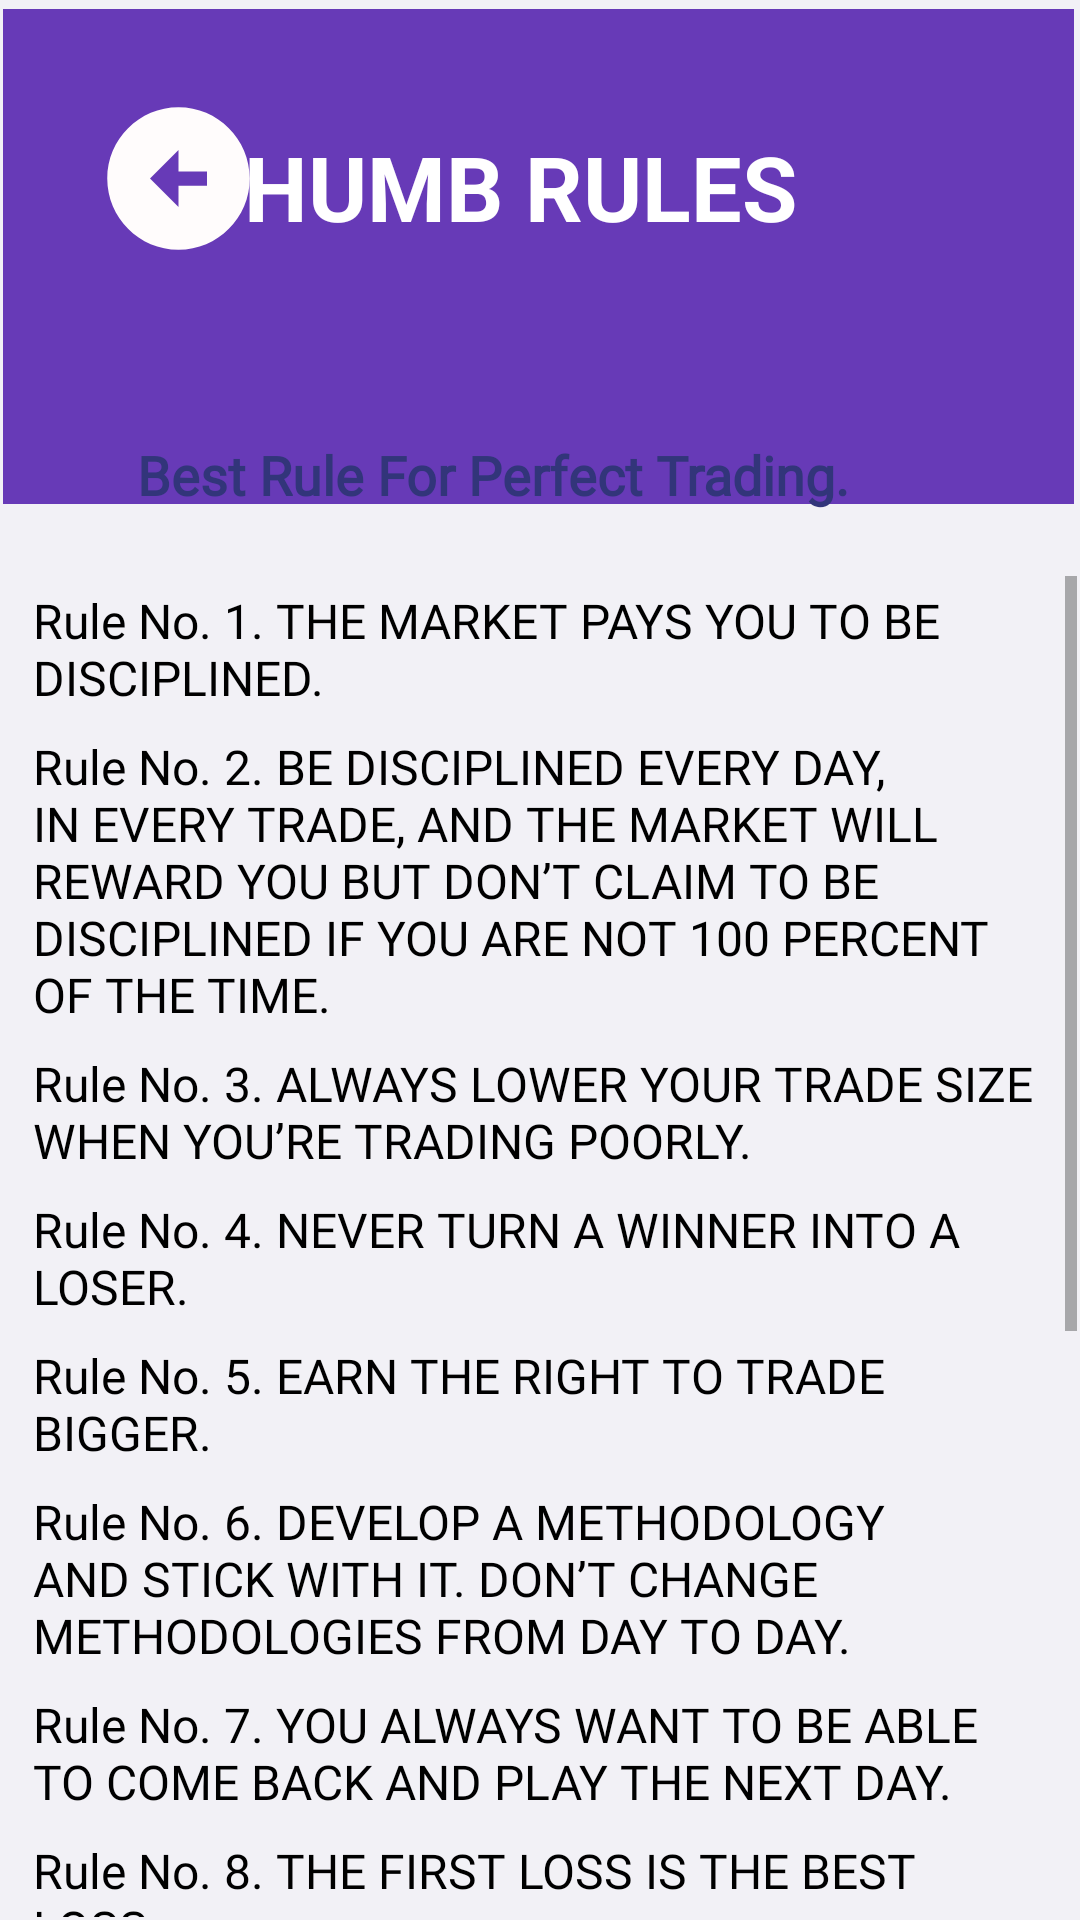

Named icons in this screenshot (1080x1920) and their centers, (x=x, y=y):
back: (x=185, y=178)
